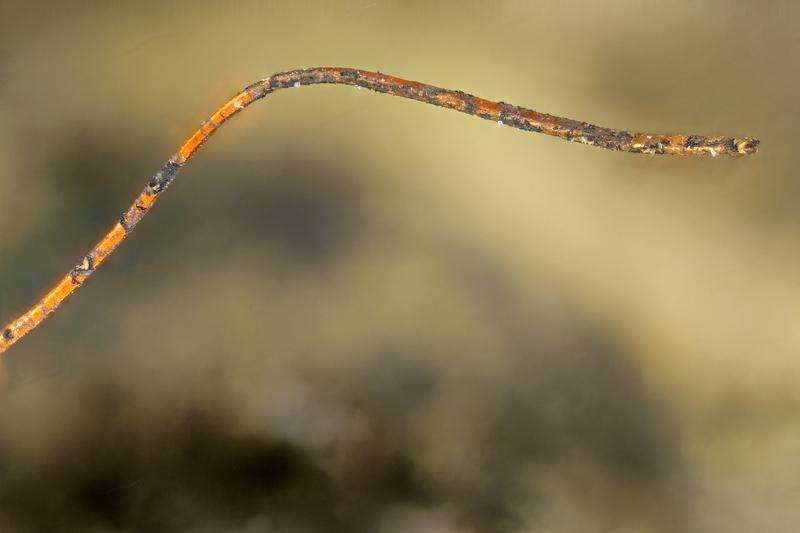copper: (0, 1, 800, 532)
